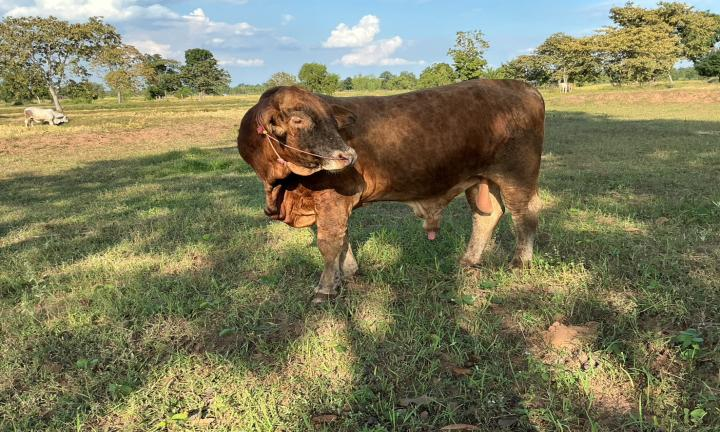Charolais: (237, 79, 544, 301)
